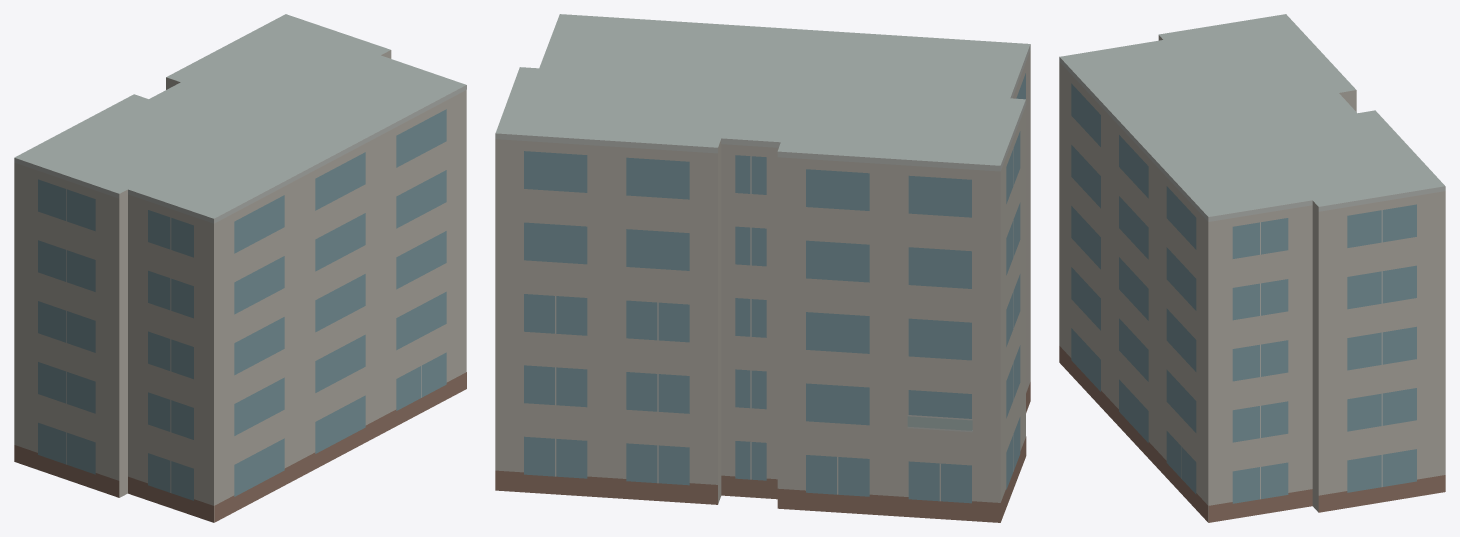
The model's file is survey-upis-33014666.glb.
The picture shows the model from 3 angles, left to right: view 1: azimuth 30°, elevation 25°; view 2: azimuth 150°, elevation 25°; view 3: azimuth 270°, elevation 25°; orthographic projection. The views are drawn at different scales.
Visible parts, largest first — view 1: survey-upis-33014666.tmp; view 2: survey-upis-33014666.tmp; view 3: survey-upis-33014666.tmp.
Part boxes in pixels (x1,y1,x2,y2): survey-upis-33014666.tmp: (14,14,466,522); survey-upis-33014666.tmp: (495,14,1030,522); survey-upis-33014666.tmp: (1059,14,1445,522).
Bounding box in the file's own units: 21.73 × 15.25 × 17.46.
